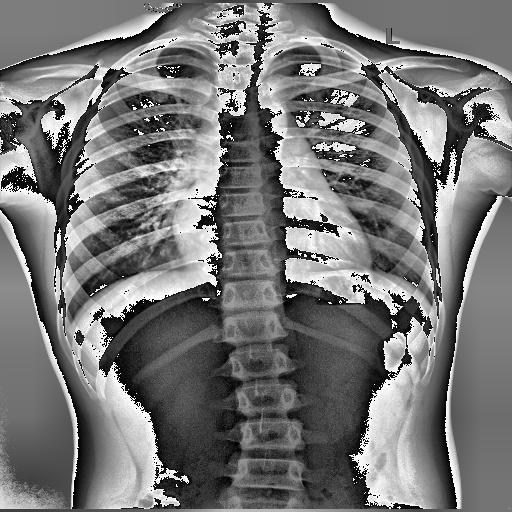3- Cardiomegaly: (169, 190, 371, 274), (172, 212, 372, 286), (168, 216, 376, 277)
